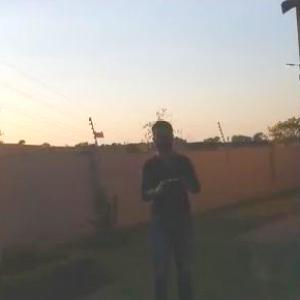follow: (133, 120, 205, 299)
